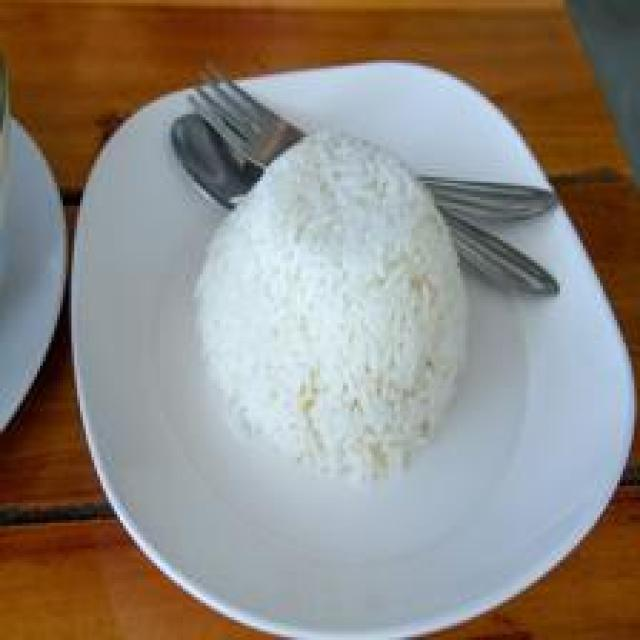Wet Waste: (192, 129, 484, 490)
